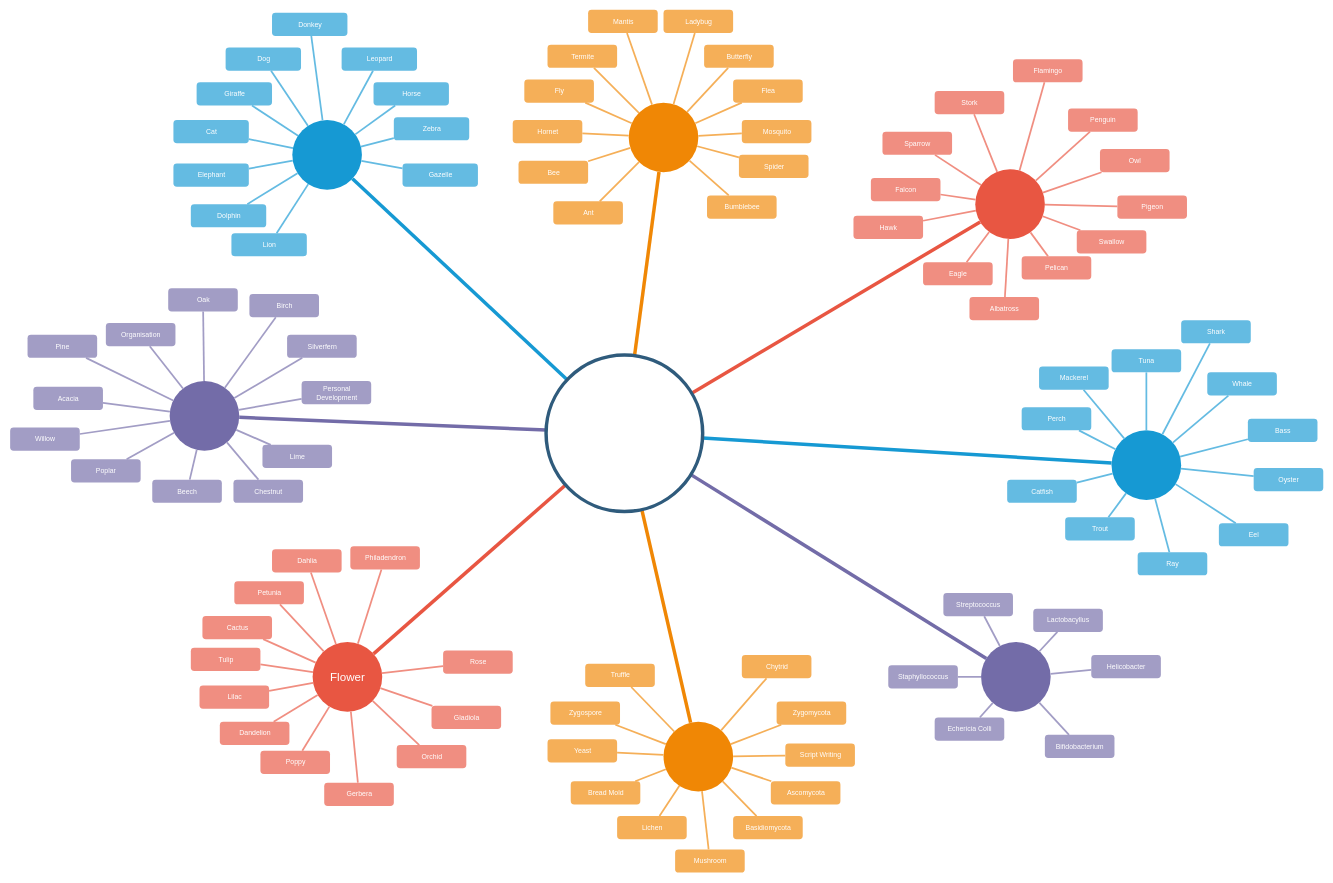
This 1333x883 diagram has some shape labels left out. Here are the shapes that lost their labels. From the top down, the centre of each, then its label:
At (x=327, y=154): "Mammal".
At (x=663, y=137): "Insect".
At (x=1010, y=204): "Bird".
At (x=204, y=415): "Tree".
At (x=624, y=433): "As TICs no ensino Digital".
At (x=1146, y=465): "Fish".
At (x=1015, y=676): "Bacteria".
At (x=698, y=756): "Fungi".
